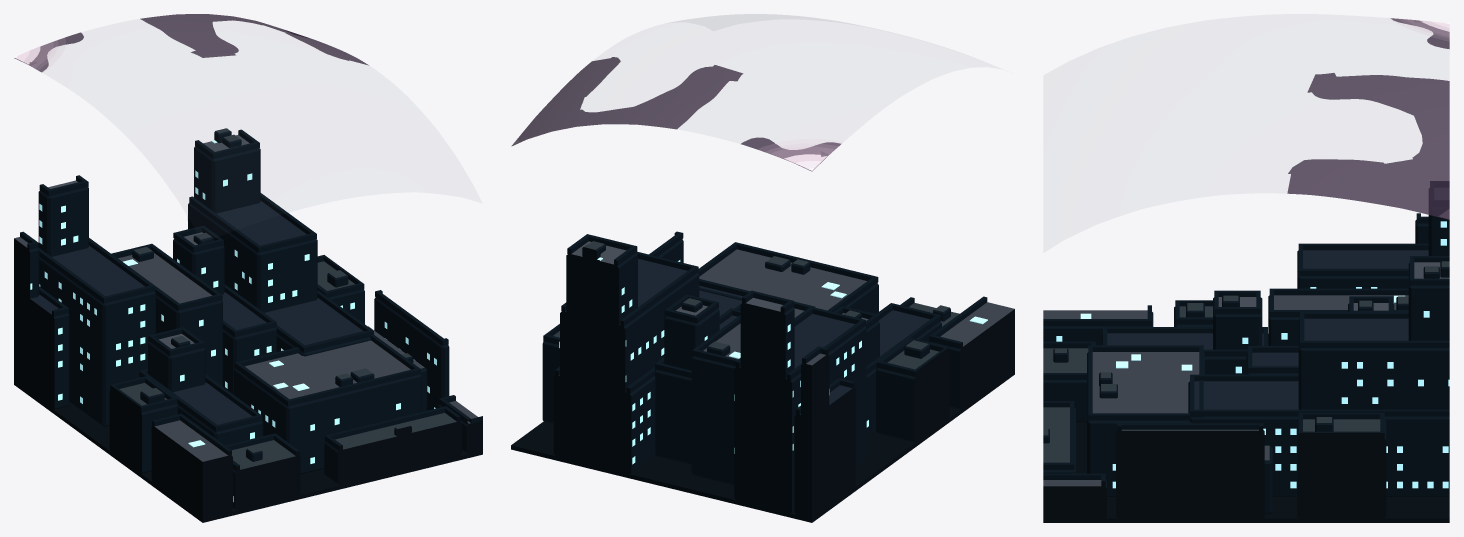
Rendered from purple_dome_mc.glb.
The picture shows the model from 3 angles, left to right: view 1: azimuth 30°, elevation 25°; view 2: azimuth 150°, elevation 25°; view 3: azimuth 270°, elevation 25°; orthographic projection. The views are drawn at different scales.
Visible parts, largest first — view 1: purple_dome_mc; view 2: purple_dome_mc; view 3: purple_dome_mc.
Part boxes in pixels (<box>): purple_dome_mc: <box>14,14,482,522</box>; purple_dome_mc: <box>511,14,1014,522</box>; purple_dome_mc: <box>1043,18,1449,522</box>.
Size of the model in its own units: 24 by 28.02 by 28.
